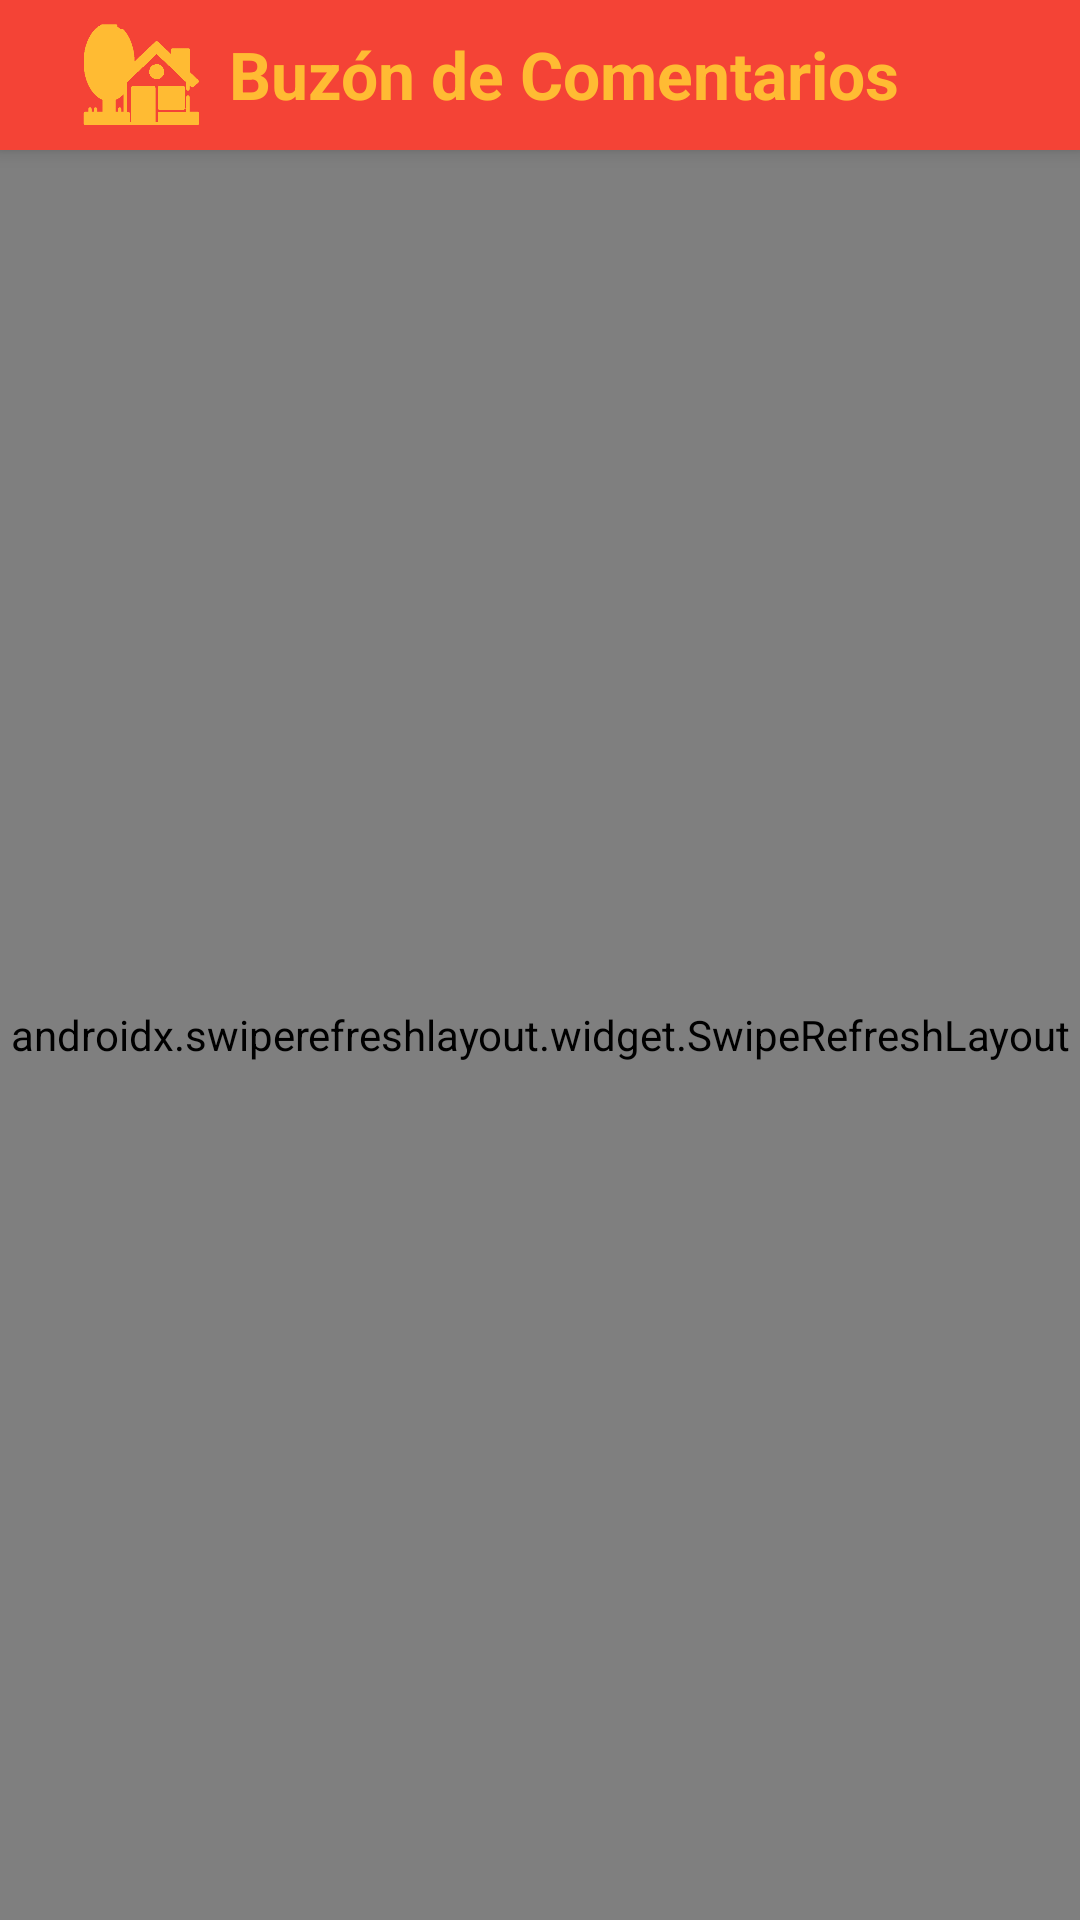

Icon click points for this 1080px×1920px phone screenshot, format [x,y]:
casa: [141,74]
